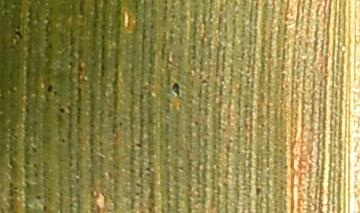tarspot: (169, 80, 182, 99), (45, 81, 55, 97), (254, 184, 263, 196)
